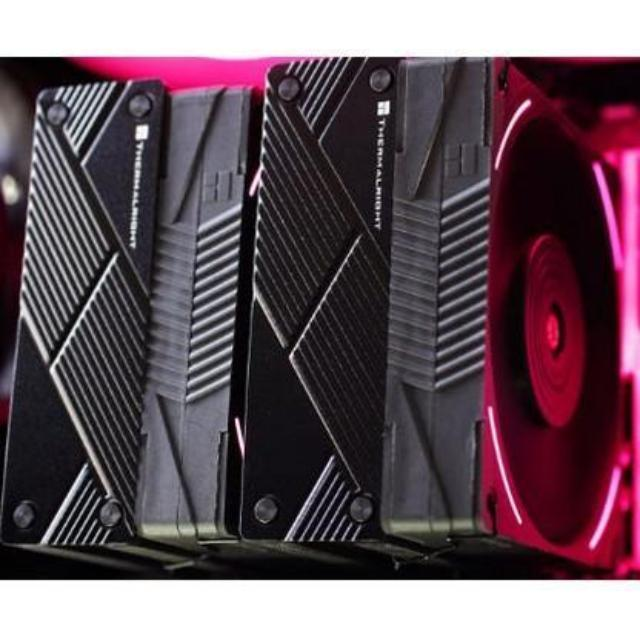CPU_Fan: (3, 57, 628, 569)
